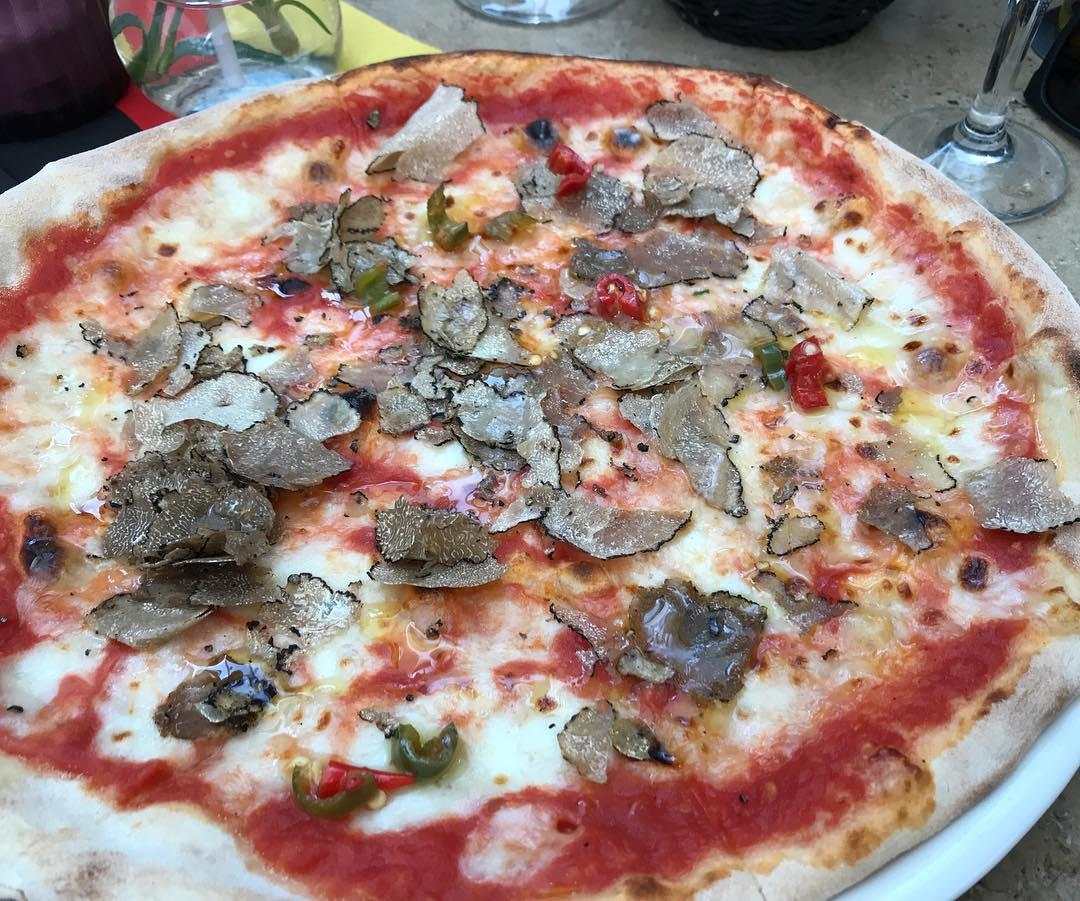Pizza: (0, 61, 1080, 901)
